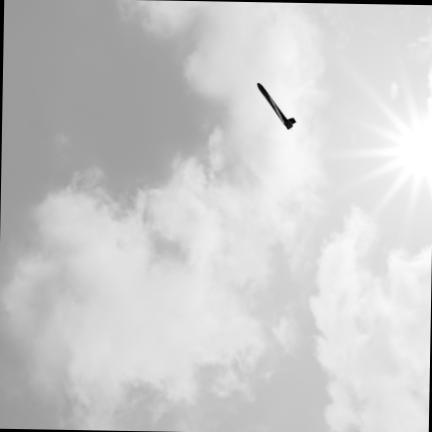Shahed: (257, 82, 295, 128)
